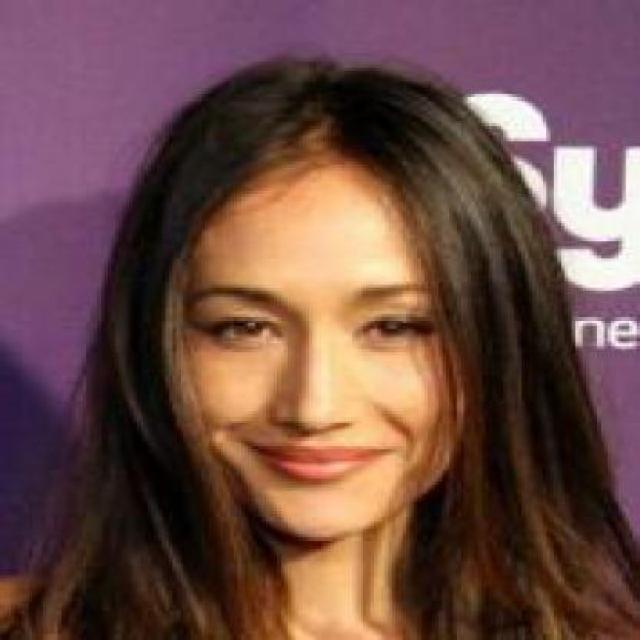closed-mouth: (252, 438, 377, 480)
